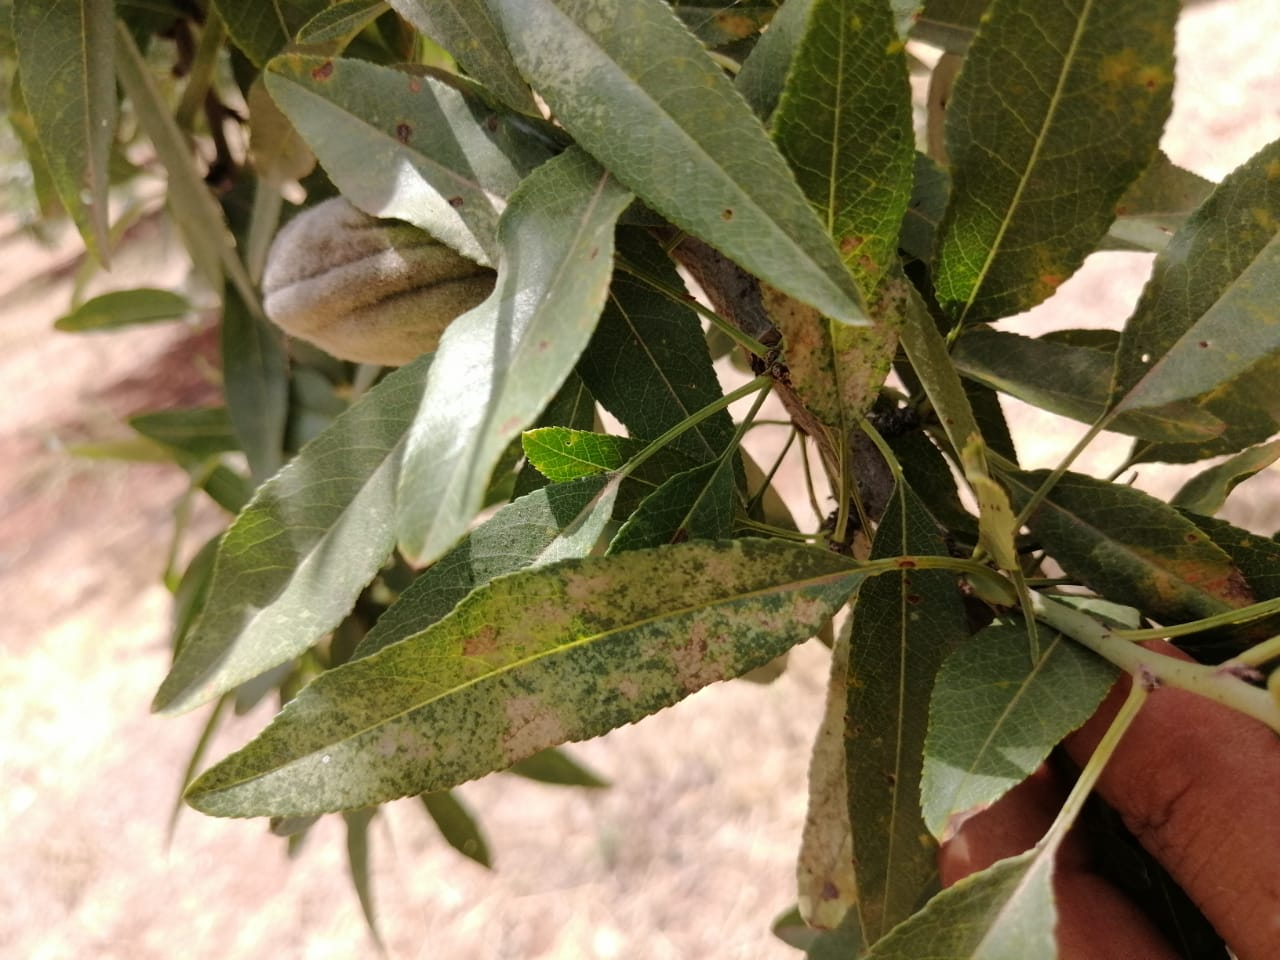faux tigre: (181, 537, 873, 820)
